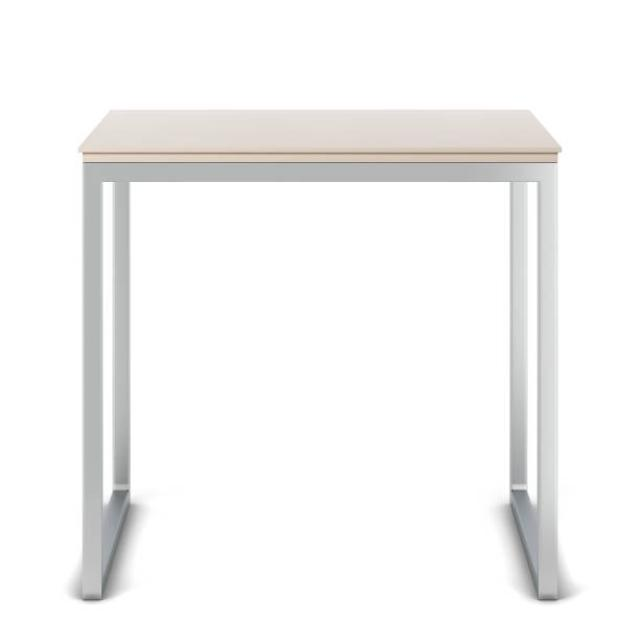table: (78, 107, 562, 602)
